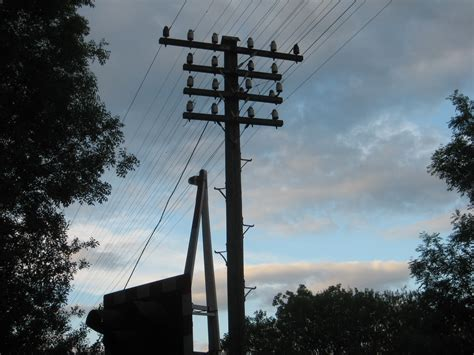pole: (147, 25, 315, 338)
